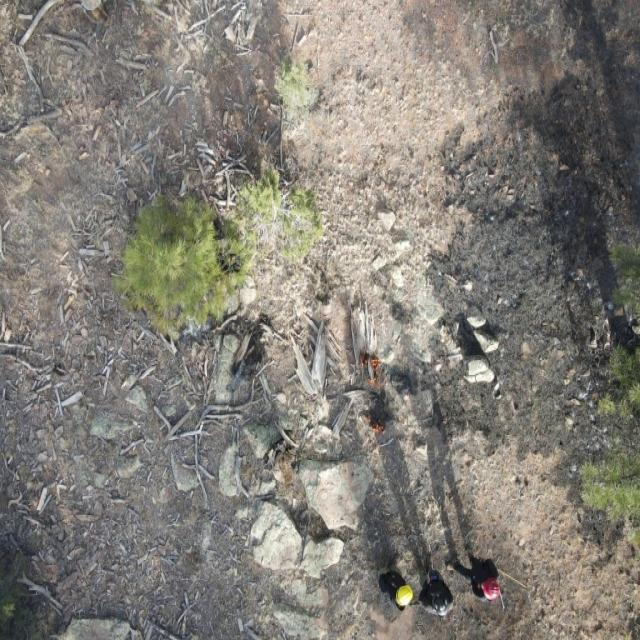fire: (360, 344, 385, 387), (361, 414, 386, 436)
smoke: (103, 74, 207, 198)
